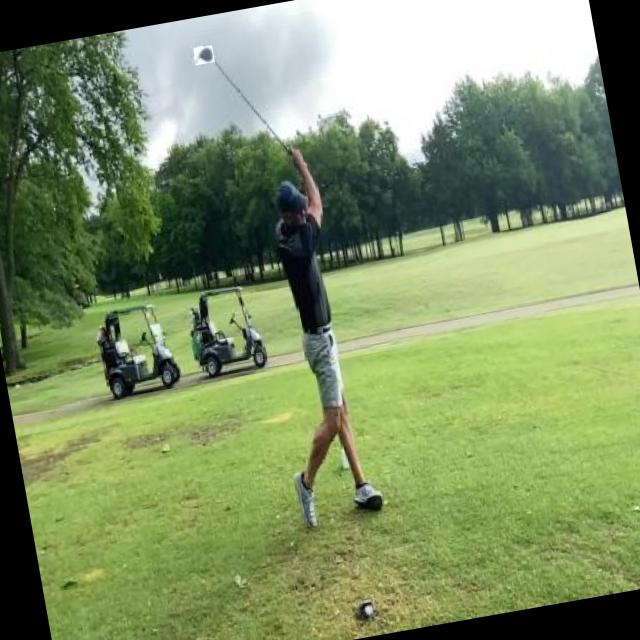club head: (192, 44, 215, 64)
